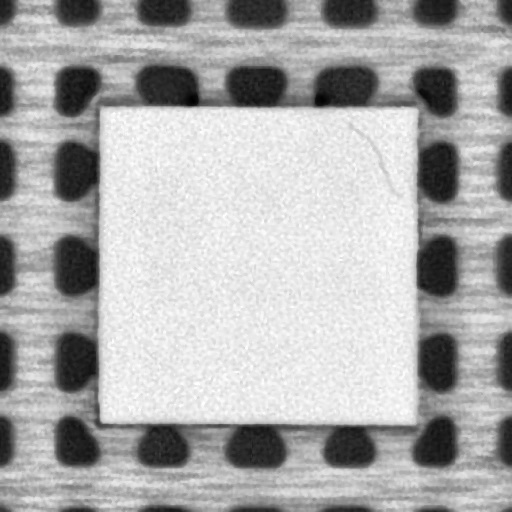DIE_CRACK: (348, 124, 402, 199)
